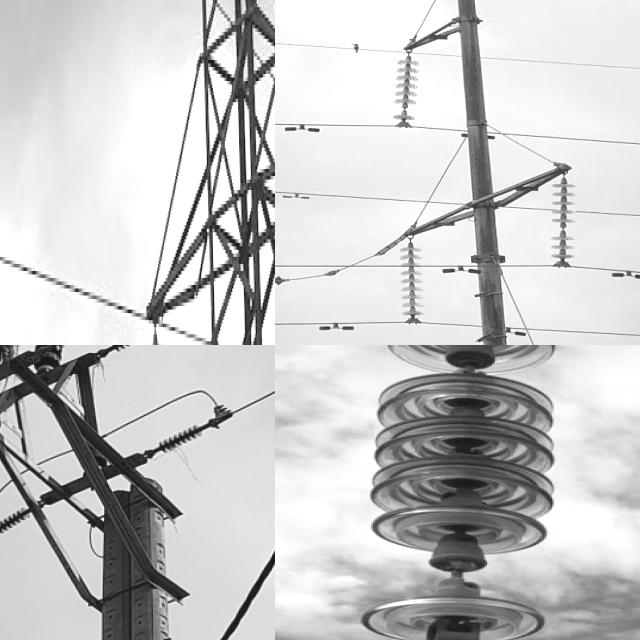杆塔: (394, 0, 571, 345), (138, 0, 275, 345)
植被遮挡: (0, 345, 21, 379)
正常绝缘子: (340, 345, 589, 640), (146, 412, 217, 463), (0, 486, 54, 549), (544, 173, 580, 267), (384, 47, 424, 124), (396, 238, 428, 323), (101, 345, 149, 365)
绝缘子破损: (428, 548, 488, 589), (445, 345, 497, 369), (558, 224, 568, 233), (401, 104, 409, 112)
